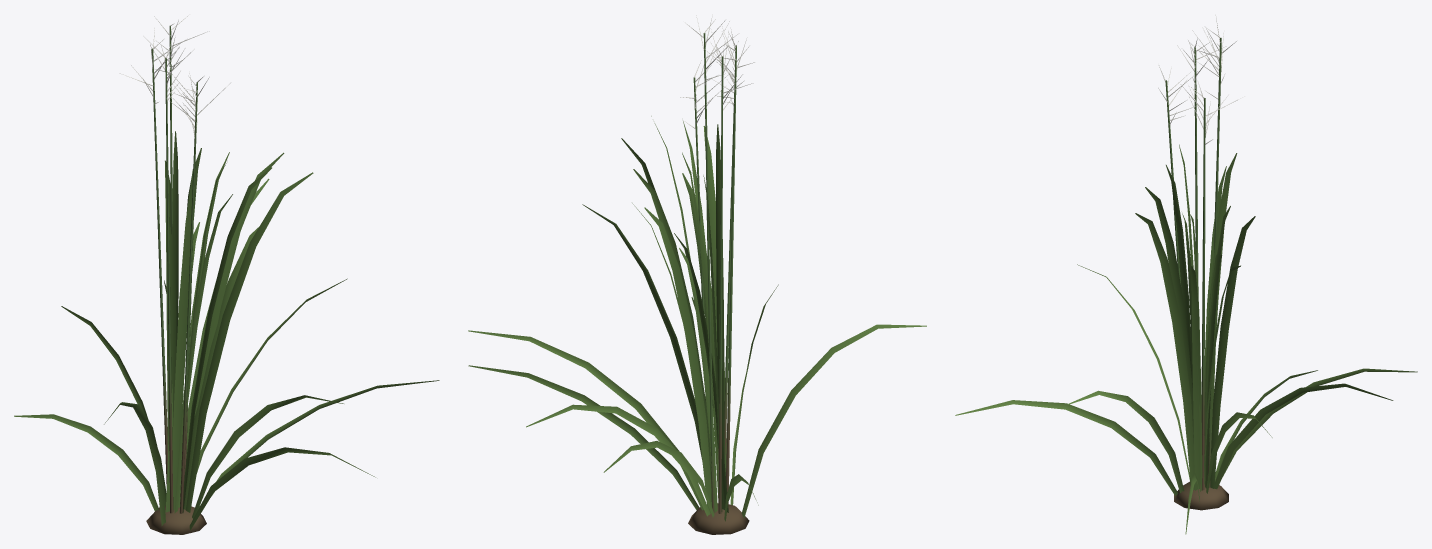
File: FountainGrass_lod2.glb
3 views of the same model, side by side, from view 1: azimuth 30°, elevation 25°; view 2: azimuth 150°, elevation 25°; view 3: azimuth 270°, elevation 25° (orthographic). The views are drawn at different scales.
Visible parts, largest first — view 1: Plant_LOD2; view 2: Plant_LOD2; view 3: Plant_LOD2.
Part boxes in pixels (bbox=[...]): Plant_LOD2: bbox=[14, 15, 439, 534]; Plant_LOD2: bbox=[468, 14, 926, 534]; Plant_LOD2: bbox=[955, 15, 1417, 534].
Size of the model in its own units: 0.6961 by 0.8532 by 0.7476.
